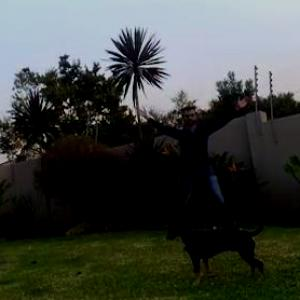takeoff: (123, 95, 240, 229)
